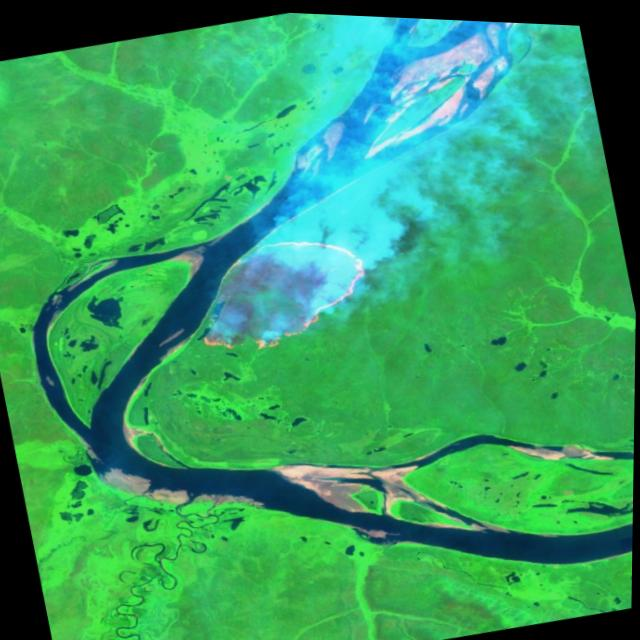fire: (178, 207, 390, 369)
